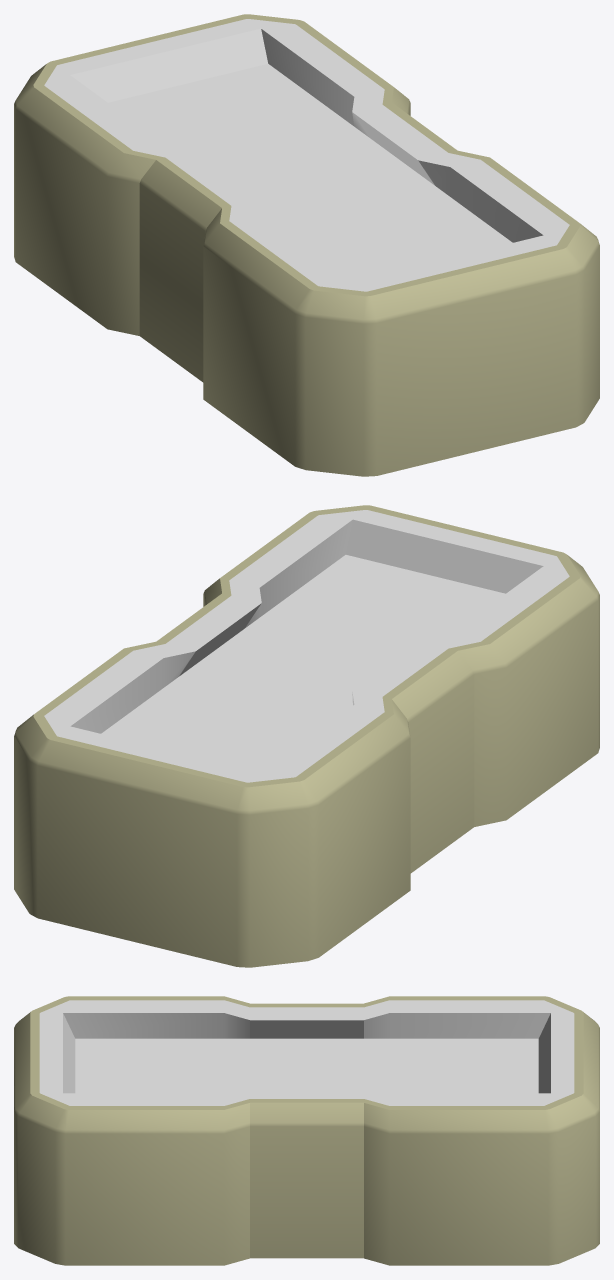
File: env_excavation_islandbridge_foot.fbx
3 renders of one model, top to bottom at view 1: azimuth 30°, elevation 25°; view 2: azimuth 150°, elevation 25°; view 3: azimuth 270°, elevation 25°, orthographic. The views are drawn at different scales.
Visible parts, largest first — view 1: Cube.009; view 2: Cube.009; view 3: Cube.009.
Boxes of the visible parts, x1=… form: Cube.009: x1=14, y1=14, x2=599, y2=476; Cube.009: x1=14, y1=505, x2=599, y2=967; Cube.009: x1=14, y1=996, x2=599, y2=1265.
Bounding box in the file's own units: 116 × 63.22 × 226.
